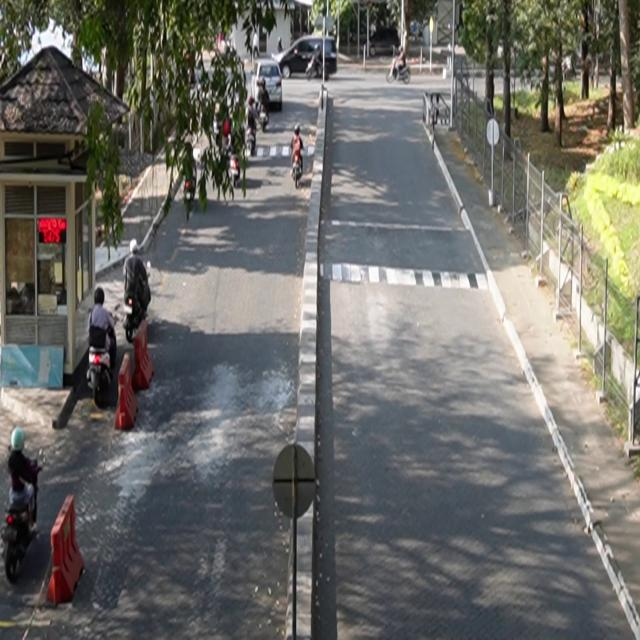car: (252, 59, 284, 112)
